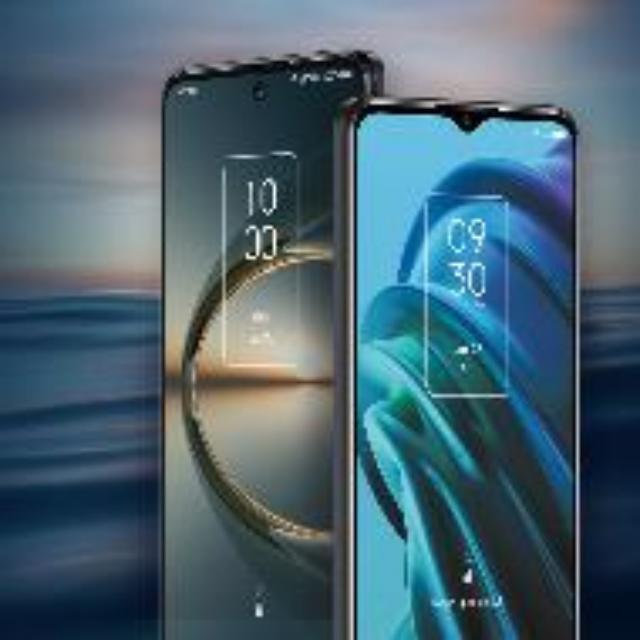Phone: (344, 102, 578, 640), (172, 56, 374, 638)
